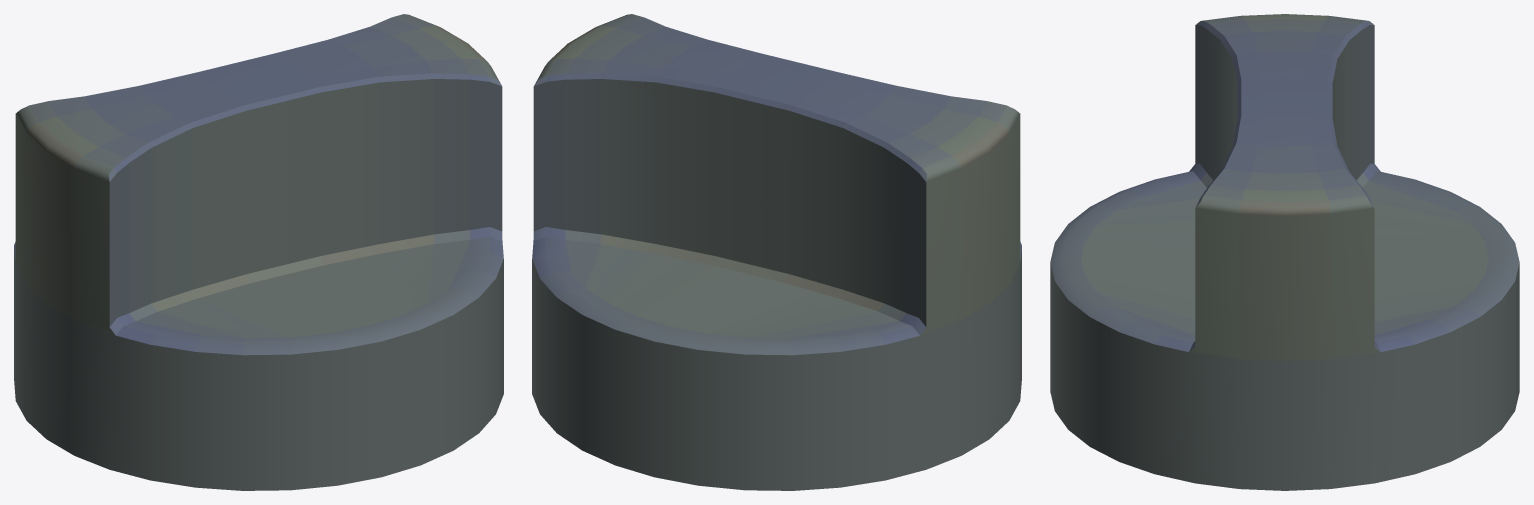
Rendered from RotaryButton_03.fbx.
3 views of the same model, side by side, from view 1: azimuth 30°, elevation 25°; view 2: azimuth 150°, elevation 25°; view 3: azimuth 270°, elevation 25° (orthographic). The views are drawn at different scales.
Parts seen in each view (by area): view 1: RotaryButton_03; view 2: RotaryButton_03; view 3: RotaryButton_03.
Part boxes in pixels (box(x1,y1,x2,y2)): RotaryButton_03: box(14, 14, 503, 490); RotaryButton_03: box(532, 14, 1021, 490); RotaryButton_03: box(1050, 14, 1519, 490).
Bounding box in the file's own units: 2.52 × 1.75 × 2.52.
